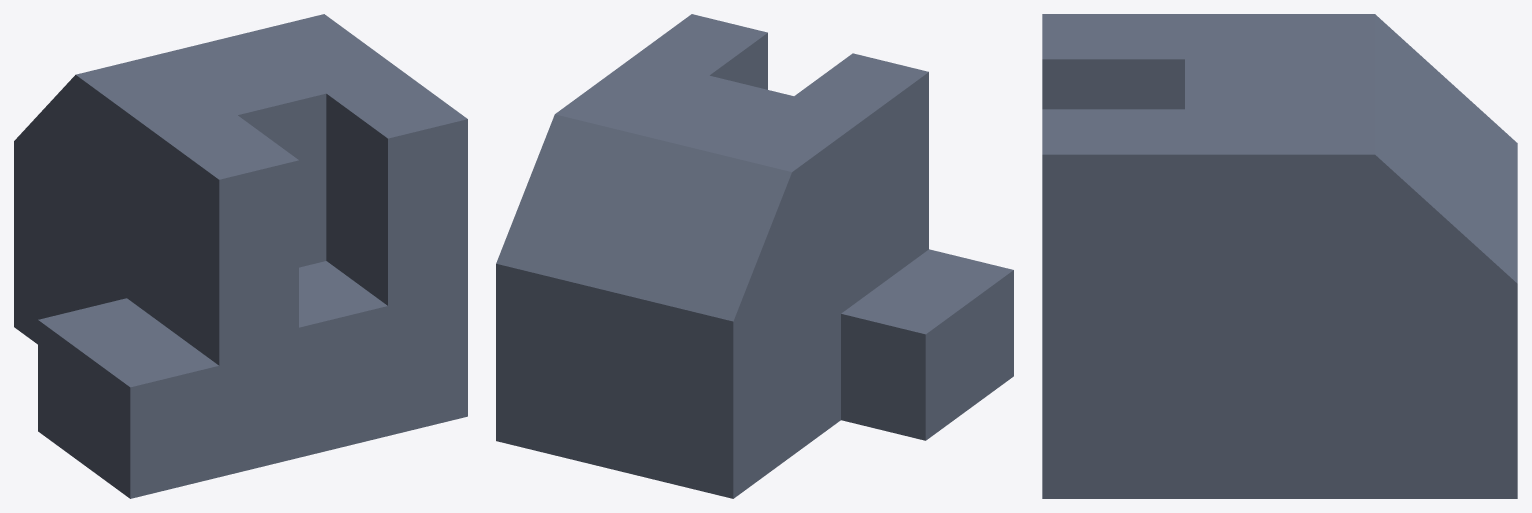
3 renders of one model, left to right at view 1: azimuth 30°, elevation 25°; view 2: azimuth 150°, elevation 25°; view 3: azimuth 270°, elevation 25°, orthographic. The views are drawn at different scales.
Parts seen in each view (by area): view 1: Created by Gmsh; view 2: Created by Gmsh; view 3: Created by Gmsh.
Boxes of the visible parts, x1,y1,x2,y2 form: Created by Gmsh: (14,14,467,498); Created by Gmsh: (496,14,1013,498); Created by Gmsh: (1042,14,1517,498).
Size of the model in its own units: 0.095 by 0.08 by 0.1.
Materials: 1 (1 with a texture image).
